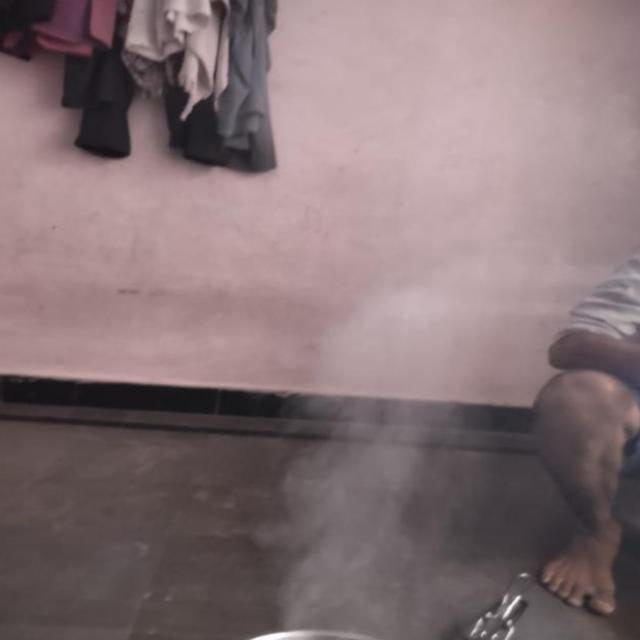fire: (276, 247, 466, 640)
